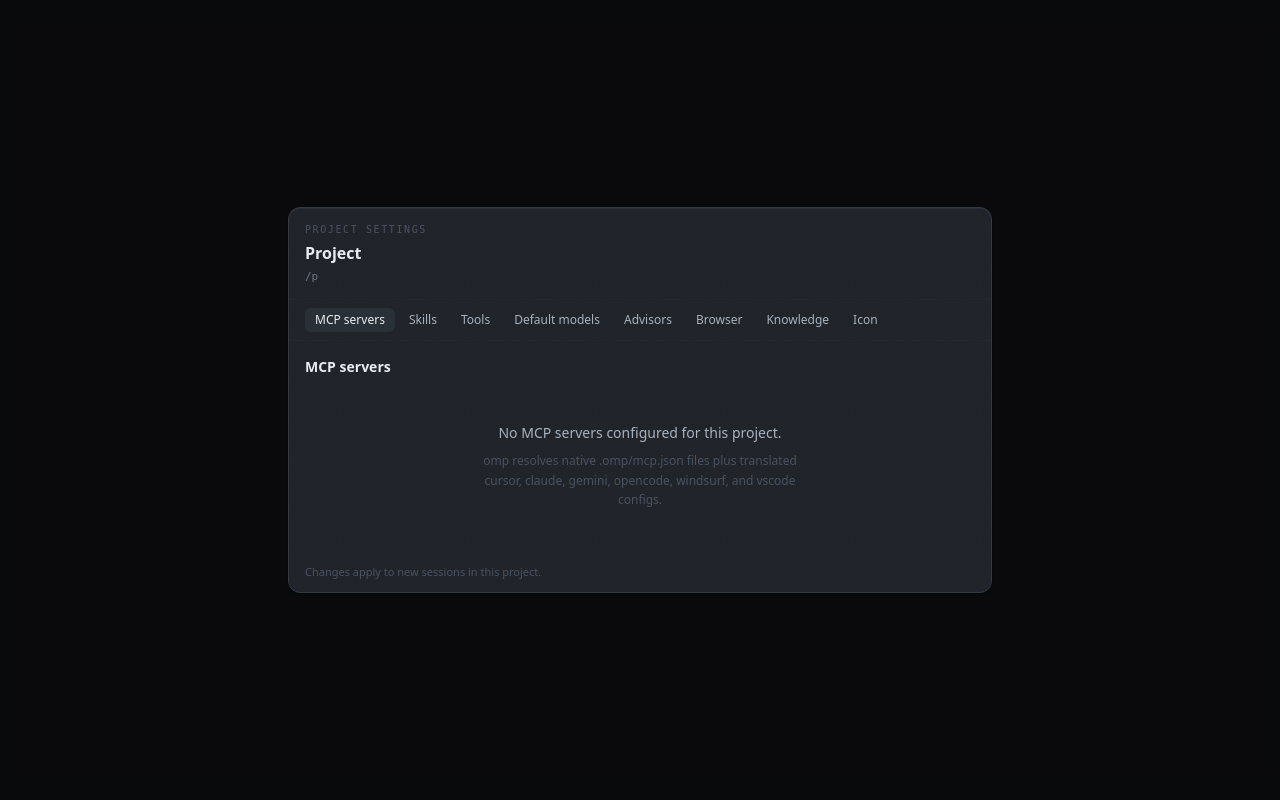
ProjectSettings › switches sections with the tab strip, one at a time
Skills: the catalog resolves at THIS project's scope on first visit.
Click the tab "Skills".
click(423, 320)  # box [399,308,447,332]
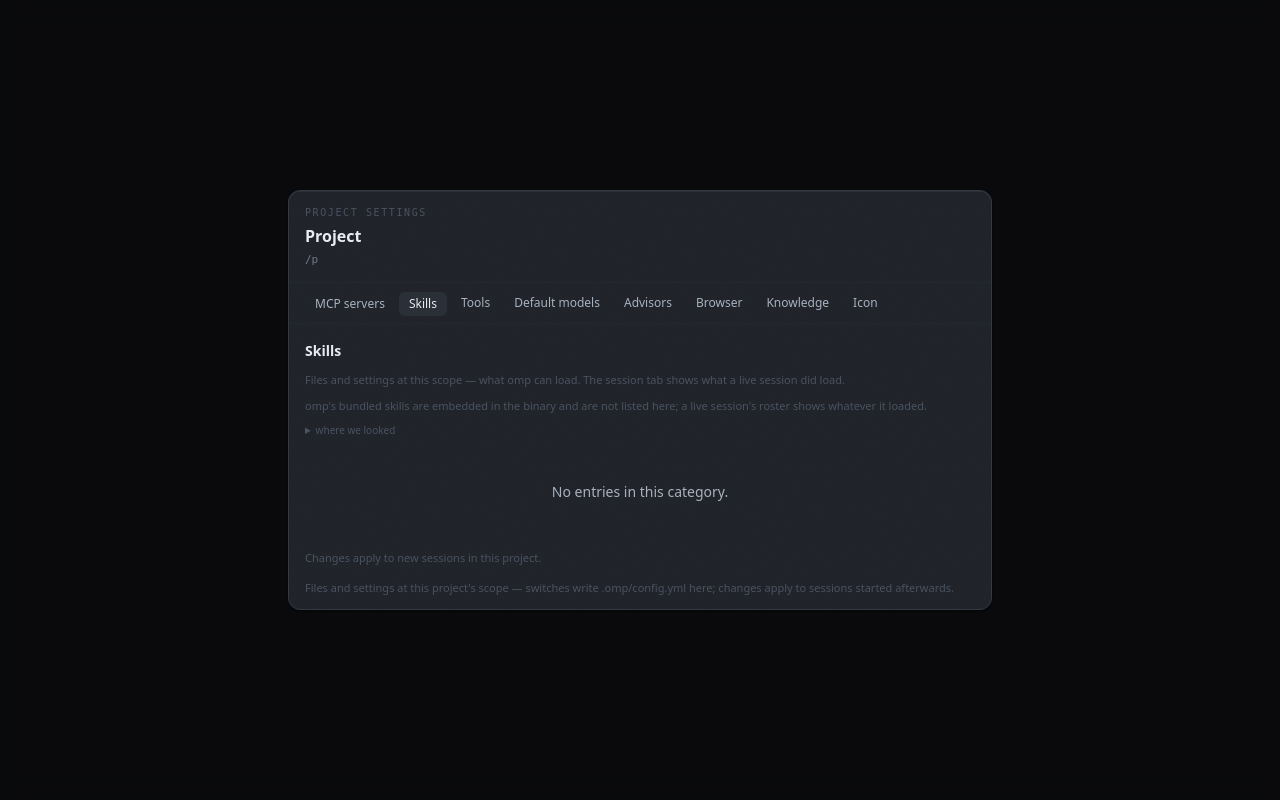
Expected: the text "what omp can load" is shown, [305,372,845,387]
Expected: the text "No MCP servers configured for this project." is gone
Tools: same catalog, same scope.
Click the tab "Tools".
click(476, 304)  # box [451,292,500,316]
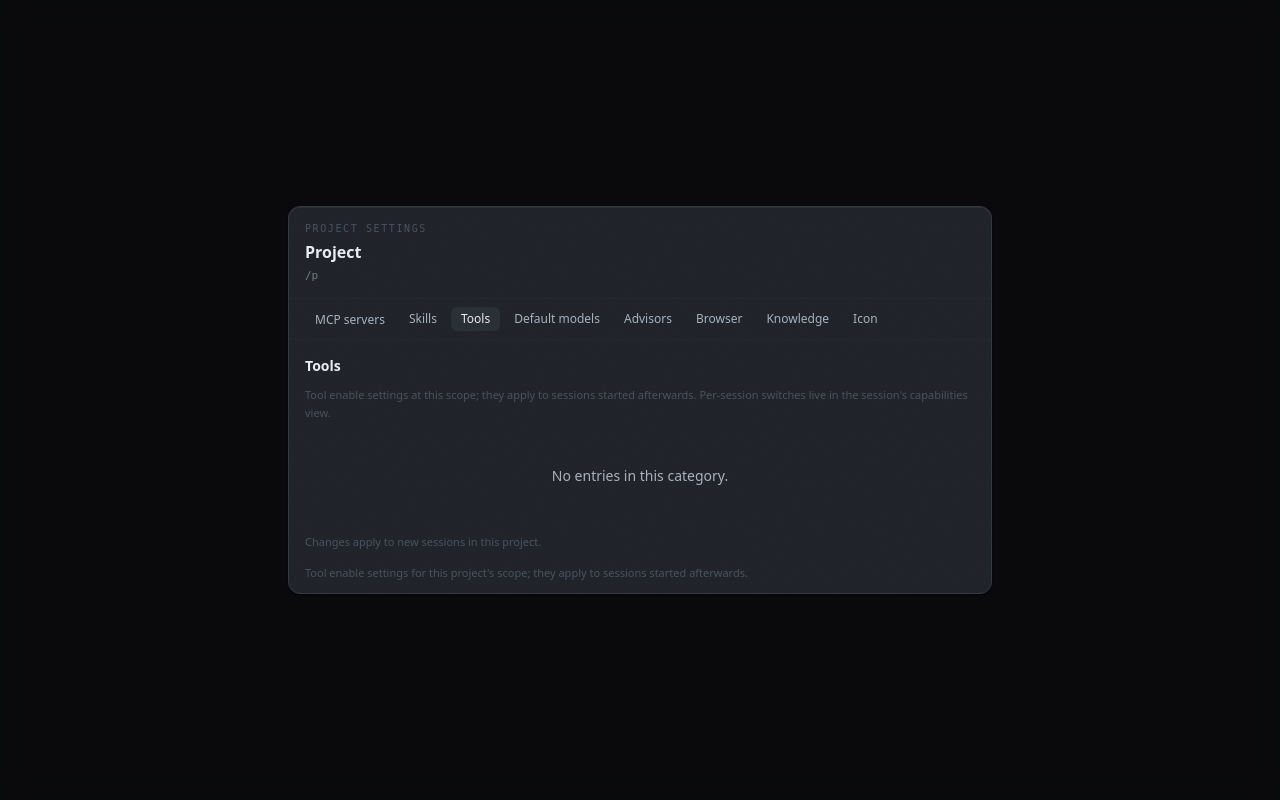
Expected: the text "Tool enable settings for this project's scope" is shown, [305,565,748,580]
Default models: both pins are visible.
Click the tab "Default models".
click(557, 319)  # box [504,307,610,331]
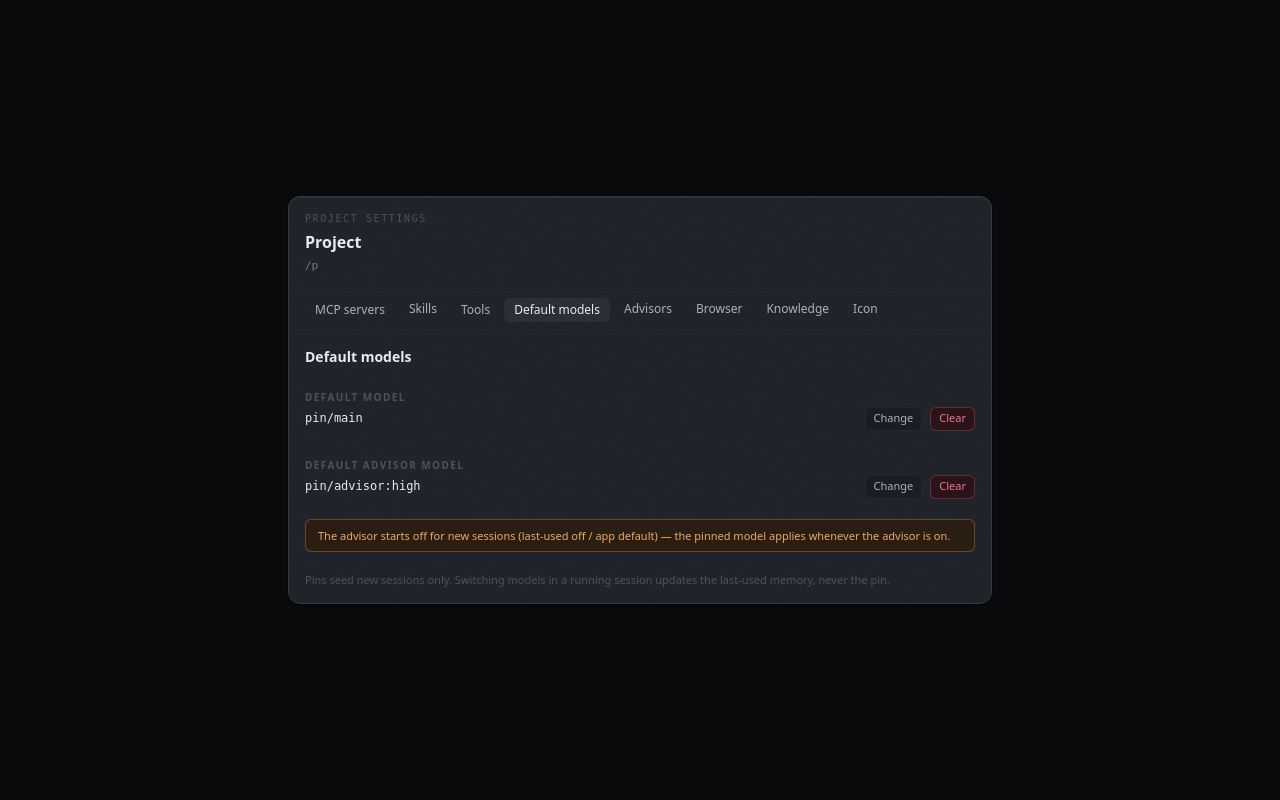
Expected: the text "pin/main" is shown, [305,411,363,425]
Expected: the text "pin/advisor:high" is shown, [305,479,421,493]
Back to MCP servers.
Click the tab "MCP servers".
click(350, 310)  # box [305,298,395,322]
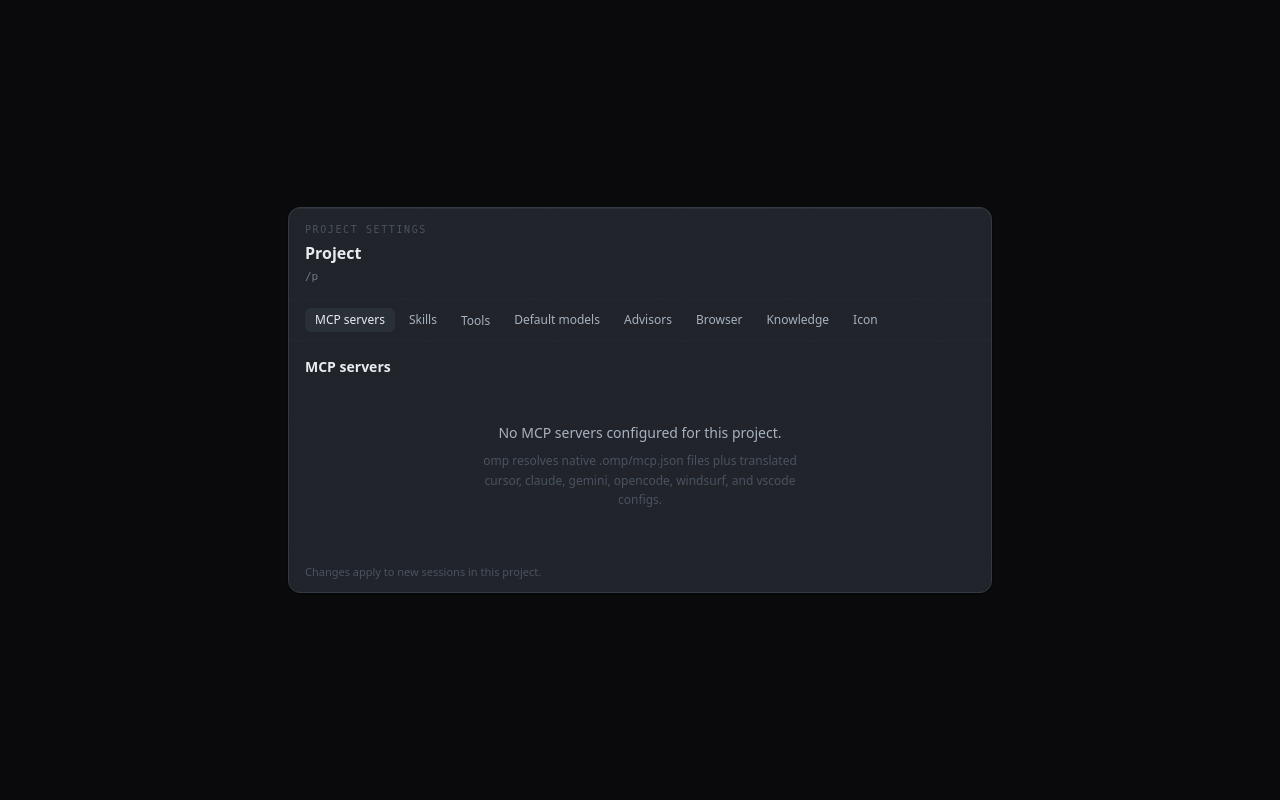
Expected: the text "No MCP servers configured for this project." is shown, [498,423,782,443]
Expected: the text "pin/main" is gone
